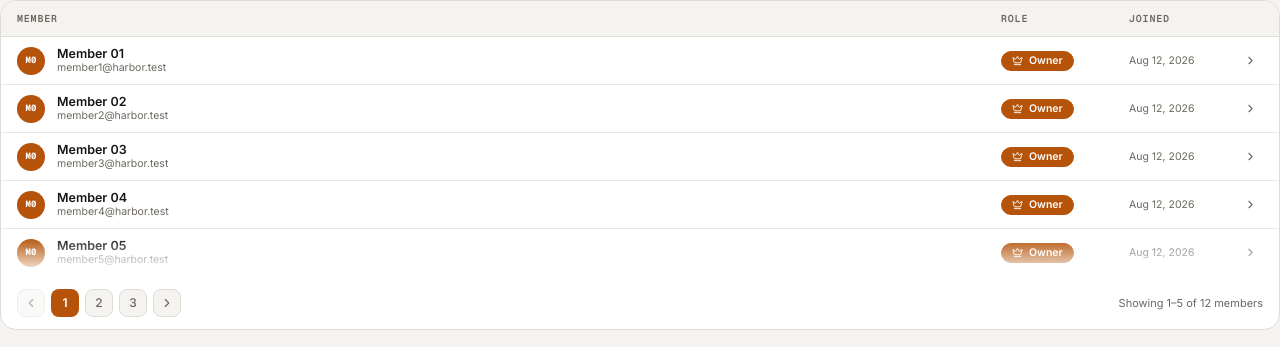
Test case: MembersTable — client-side pagination › navigates with previous/next and disables the bounds
The width and height of the screenshot is (1280, 347).
Expected: the button named "previous page" is disabled, [17,289,45,317]
Click the button named "next page".
click(167, 303)  # box [153,289,181,317]
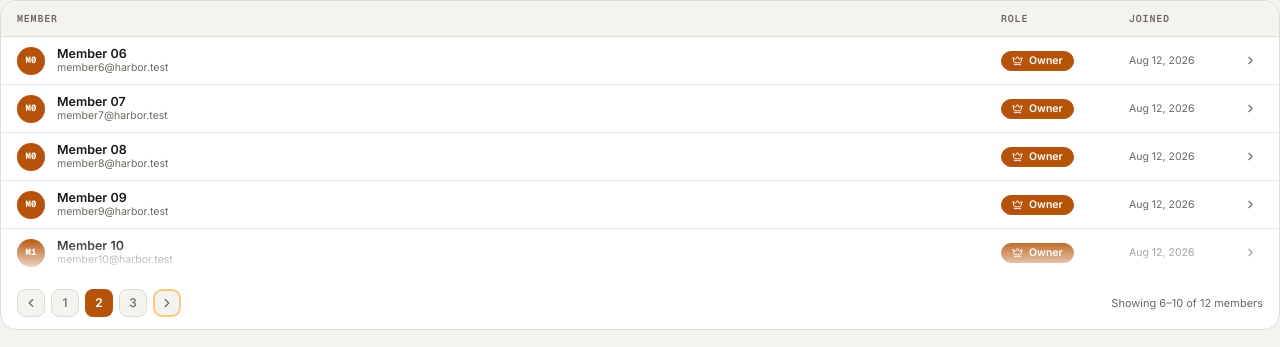
Result: the text "Member 01" is gone
Result: the text "Member 06" is shown at [57,46,127,60]
Result: the text "Showing 6–10 of 12 members" is shown at [1111,295,1263,311]
Click the button named "next page".
click(167, 303)  # box [153,289,181,317]
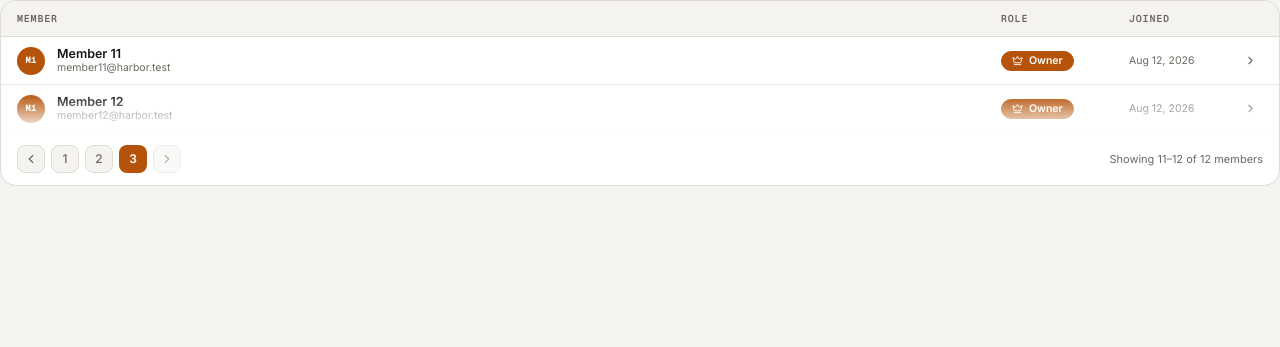
Result: the text "Member 12" is shown at [57,94,124,108]
Result: the text "Showing 11–12 of 12 members" is shown at [1110,151,1263,167]
Result: the button named "next page" is disabled at [153,145,181,173]
Click the button named "previous page".
click(31, 159)  # box [17,145,45,173]
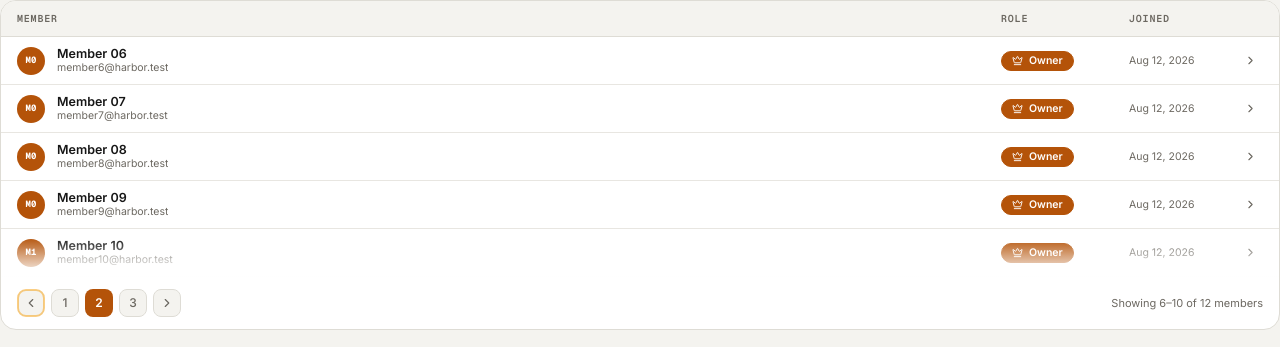
Result: the text "Showing 6–10 of 12 members" is shown at [1111,295,1263,311]
